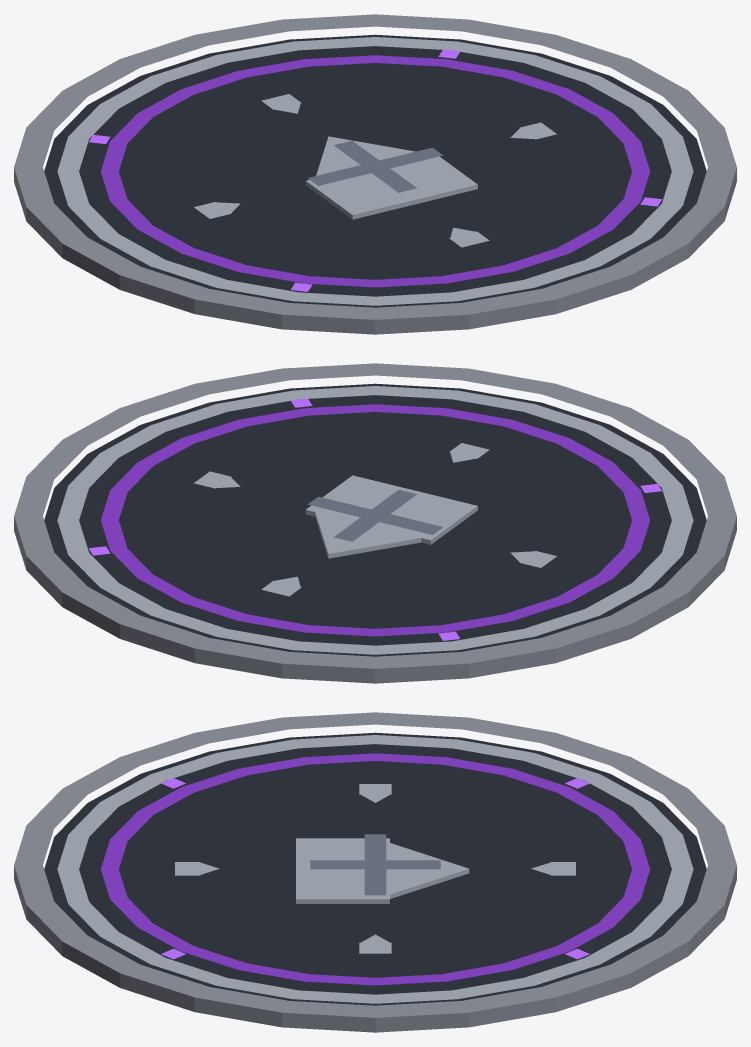
The model's file is shield_knight_rare_area.glb.
The picture shows the model from 3 angles, top to bottom: view 1: azimuth 30°, elevation 25°; view 2: azimuth 150°, elevation 25°; view 3: azimuth 270°, elevation 25°; orthographic projection.
Visible parts, largest first — view 1: shield_knight_rare_area; view 2: shield_knight_rare_area; view 3: shield_knight_rare_area.
Part boxes in pixels (x1,y1,x2,y2): shield_knight_rare_area: [14, 14, 736, 334]; shield_knight_rare_area: [14, 363, 736, 683]; shield_knight_rare_area: [14, 712, 736, 1032].
Size of the model in its own units: 2 by 0.046 by 2.
2 materials, 2 textured.
